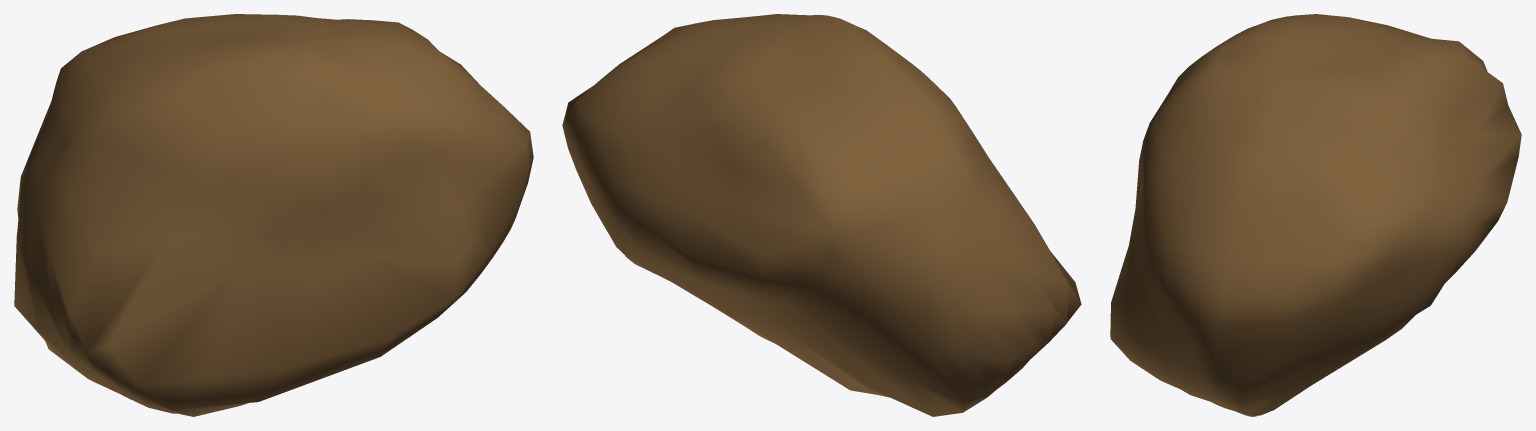
The model's file is rocacafe.glb.
3 views of the same model, side by side, from view 1: azimuth 30°, elevation 25°; view 2: azimuth 150°, elevation 25°; view 3: azimuth 270°, elevation 25° (orthographic). The views are drawn at different scales.
Parts seen in each view (by area): view 1: Esfera.006; view 2: Esfera.006; view 3: Esfera.006.
Part boxes in pixels (x1,y1,x2,y2): Esfera.006: [14, 14, 533, 416]; Esfera.006: [562, 14, 1081, 416]; Esfera.006: [1110, 14, 1521, 416].
Size of the model in its own units: 8.61 by 5.87 by 6.28.
